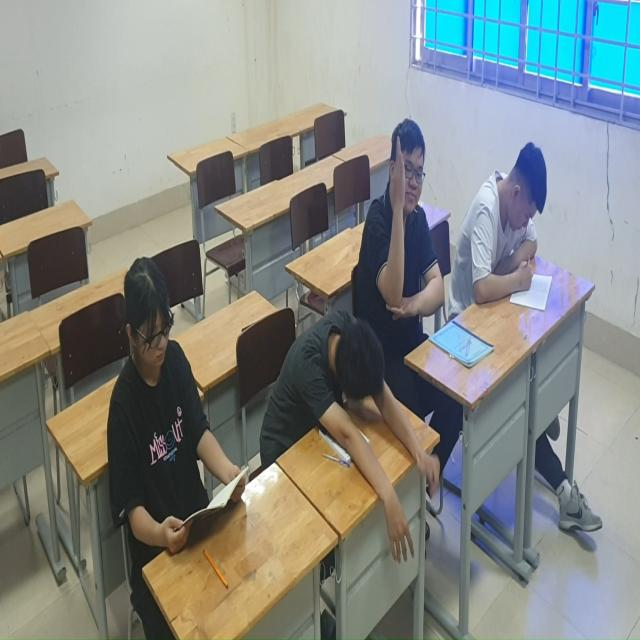raise_hand: (381, 114, 445, 324)
read: (102, 256, 245, 565), (454, 145, 553, 315)
sleep: (274, 296, 401, 485)
